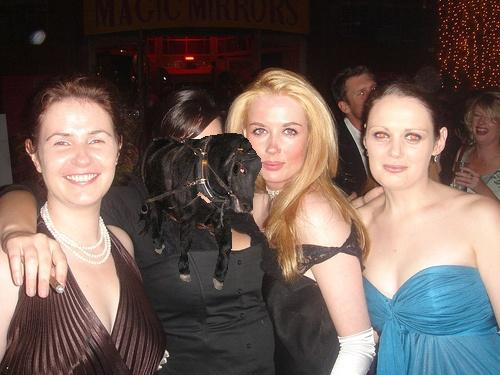tampered: (136, 134, 262, 290)
